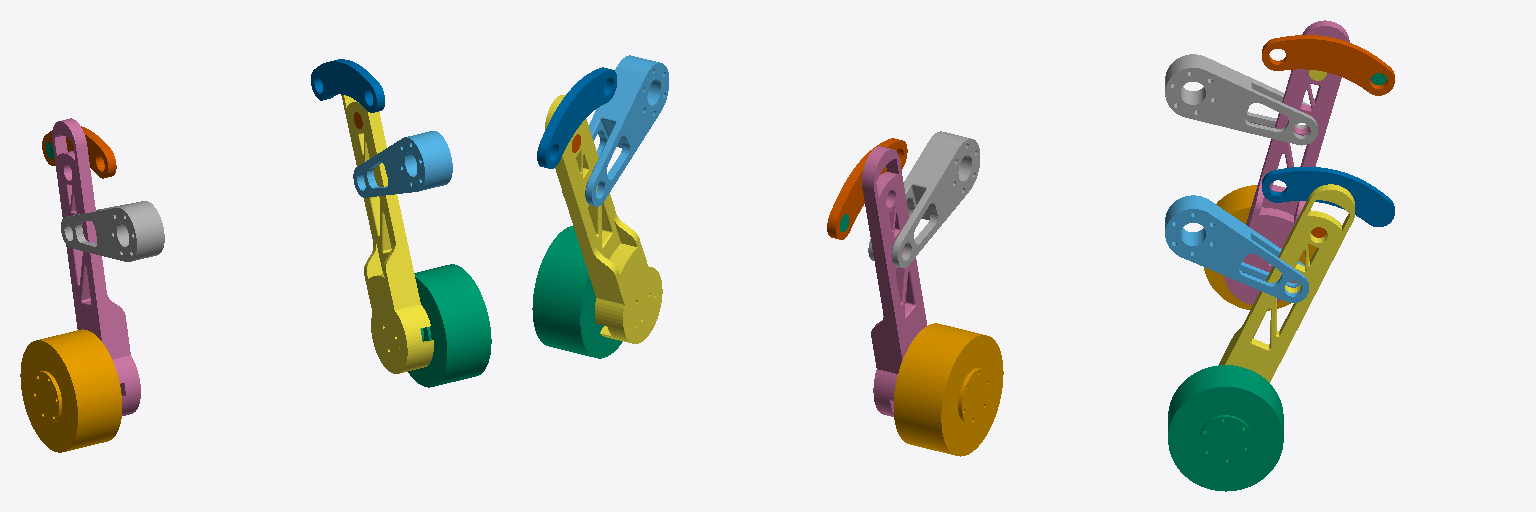
URDF robot description (轮腿v1):
<?xml version='1.0' encoding='utf-8'?>
<robot name="轮腿v1">
    <link name="root_link">
    </link>
    <link name="robot_link1_left">
        <inertial>
            <origin xyz="-0.010016496684495167 0.01671145807459988 -0.010000001677759718" rpy="0.0 -0.0 0.0" />
            <mass value="0.034170053825688045" />
            <inertia ixx="1.5691808340208215e-05" iyy="8.391464562065853e-06" izz="2.1479023160110577e-05" ixy="6.8280199108398595e-06" iyz="1.98908272782787e-11" ixz="5.6384452237242784e-12" />
        </inertial>
        <visual name="robot_link1_left_visual">
            <origin xyz="0.08833567487194983 0.3636699887884921 -0.01700000000000146" rpy="0.17453292519943286 -1.5707963267948943 0" />
            <geometry>
                <mesh filename="meshes/robot_link1_left.stl" scale="0.001 0.001 0.001" />
            </geometry>
        </visual>
        <collision name="robot_link1_left_collision">
            <origin xyz="0.08833567487194983 0.3636699887884921 -0.01700000000000146" rpy="0.17453292519943286 -1.5707963267948943 0" />
            <geometry>
                <mesh filename="meshes/robot_link1_left.stl" scale="0.001 0.001 0.001" />
            </geometry>
        </collision>
    </link>
    <link name="robot_wheel_left">
        <inertial>
            <origin xyz="3.0152683896744747e-06 6.459283394653071e-06 0.02574039366510318" rpy="1.335583525053853e-76 -0.0 7.778769097326427e-62" />
            <mass value="1.0657044593105747" />
            <inertia ixx="0.00043627358117542315" iyy="0.00043627487302622136" izz="0.0006676023336660286" ixy="7.697821685636401e-10" iyz="1.6429919262919128e-07" ixz="7.661397197243954e-08" />
        </inertial>
        <visual name="robot_wheel_left_visual">
            <origin xyz="0.24825175501436833 -0.4724705067400967 0.04200000000000099" rpy="-1.5707963267948966 -1.7608906777981322e-15 -1.74532925199433" />
            <geometry>
                <mesh filename="meshes/robot_wheel_left.stl" scale="0.001 0.001 0.001" />
            </geometry>
        </visual>
        <collision name="robot_wheel_left_collision">
            <origin xyz="0.24825175501436833 -0.4724705067400967 0.04200000000000099" rpy="-1.5707963267948966 -1.7608906777981322e-15 -1.74532925199433" />
            <geometry>
                <mesh filename="meshes/robot_wheel_left.stl" scale="0.001 0.001 0.001" />
            </geometry>
        </collision>
    </link>
    <link name="robot_link2_left">
        <inertial>
            <origin xyz="-0.04938937365968343 0.02303063890424319 -0.007876491555606609" rpy="-3.4796460183768004e-79 -0.0 0.0" />
            <mass value="0.06493550656605085" />
            <inertia ixx="3.862113424253112e-05" iyy="0.00014527919458226513" izz="0.00018014507365024524" ixy="6.348318854740645e-05" iyz="3.7809764565897997e-06" ixz="-8.10833017744589e-06" />
        </inertial>
        <visual name="robot_link2_left_visual">
            <origin xyz="0.17058009038274904 -0.3613442097834216 0.0020000000000013163" rpy="1.7453292519943295 1.570796326794894 0" />
            <geometry>
                <mesh filename="meshes/robot_link2_left.stl" scale="0.001 0.001 0.001" />
            </geometry>
        </visual>
        <collision name="robot_link2_left_collision">
            <origin xyz="0.17058009038274904 -0.3613442097834216 0.0020000000000013163" rpy="1.7453292519943295 1.570796326794894 0" />
            <geometry>
                <mesh filename="meshes/robot_link2_left.stl" scale="0.001 0.001 0.001" />
            </geometry>
        </collision>
    </link>
    <link name="robot_link3_left">
        <inertial>
            <origin xyz="-0.0035459729968809485 -0.03271474441396112 0.00300000000000034" rpy="0.0 -0.0 0.0" />
            <mass value="0.009709743586677392" />
            <inertia ixx="4.349768112687911e-06" iyy="7.655585815870281e-07" izz="5.057068232762474e-06" ixy="-1.0347678306215843e-06" iyz="6.247374890622568e-21" ixz="4.877316281108266e-19" />
        </inertial>
        <visual name="robot_link3_left_visual">
            <origin xyz="-0.10688434110702759 -0.25680579739576037 0.006000000000001049" rpy="-8.326672684688855e-17 1.570796326794892 0" />
            <geometry>
                <mesh filename="meshes/robot_link3_left.stl" scale="0.001 0.001 0.001" />
            </geometry>
        </visual>
        <collision name="robot_link3_left_collision">
            <origin xyz="-0.10688434110702759 -0.25680579739576037 0.006000000000001049" rpy="-8.326672684688855e-17 1.570796326794892 0" />
            <geometry>
                <mesh filename="meshes/robot_link3_left.stl" scale="0.001 0.001 0.001" />
            </geometry>
        </collision>
    </link>
    <link name="robot_link3_right">
        <inertial>
            <origin xyz="-0.0035459729968820852 0.03271474441396185 0.0029999999999999007" rpy="0.0 -0.0 0.0" />
            <mass value="0.009709743586677332" />
            <inertia ixx="4.3497681126841974e-06" iyy="7.655585815835586e-07" izz="5.057068232748596e-06" ixy="1.0347678306205001e-06" iyz="-8.147858037048061e-20" ixz="4.340874297373733e-19" />
        </inertial>
        <visual name="robot_link3_right_visual">
            <origin xyz="0.1273365228711529 0.23656734657066672 0.005999999999998807" rpy="3.1415926535897927 1.5707963267948952 0" />
            <geometry>
                <mesh filename="meshes/robot_link3_right.stl" scale="0.001 0.001 0.001" />
            </geometry>
        </visual>
        <collision name="robot_link3_right_collision">
            <origin xyz="0.1273365228711529 0.23656734657066672 0.005999999999998807" rpy="3.1415926535897927 1.5707963267948952 0" />
            <geometry>
                <mesh filename="meshes/robot_link3_right.stl" scale="0.001 0.001 0.001" />
            </geometry>
        </collision>
    </link>
    <link name="robot_link2_right">
        <inertial>
            <origin xyz="-0.05263826298415069 -0.014104385247137455 -0.007876491555606826" rpy="0.0 -0.0 0.0" />
            <mass value="0.06493550656605086" />
            <inertia ixx="2.012473904235753e-05" iyy="0.00016377558978245" izz="0.00018014507365216037" ixy="-4.1415081279836535e-05" iyz="-2.3155381691996075e-06" ixz="-8.641706094238872e-06" />
        </inertial>
        <visual name="robot_link2_right_visual">
            <origin xyz="0.19153895741042276 0.32711011009347496 0.0019999999999991405" rpy="1.5707963267948966 1.5707963267948957 0" />
            <geometry>
                <mesh filename="meshes/robot_link2_right.stl" scale="0.001 0.001 0.001" />
            </geometry>
        </visual>
        <collision name="robot_link2_right_collision">
            <origin xyz="0.19153895741042276 0.32711011009347496 0.0019999999999991405" rpy="1.5707963267948966 1.5707963267948957 0" />
            <geometry>
                <mesh filename="meshes/robot_link2_right.stl" scale="0.001 0.001 0.001" />
            </geometry>
        </collision>
    </link>
    <link name="robot_link1_right">
        <inertial>
            <origin xyz="-0.006962418040937167 -0.018196920644277352 -0.010000001677759442" rpy="0.0 -0.0 0.0" />
            <mass value="0.034170053825688" />
            <inertia ixx="1.7807004699348008e-05" iyy="6.276188456673382e-06" izz="2.1478943414005025e-05" ixy="-5.167909996290493e-06" iyz="-1.8698940130391368e-11" ixz="6.7664398385079534e-12" />
        </inertial>
        <visual name="robot_link1_right_visual">
            <origin xyz="0.11106539677151417 -0.34436502796970425 -0.016999999999999033" rpy="-3.141592653589793 -1.5707963267948941 0" />
            <geometry>
                <mesh filename="meshes/robot_link1_right.stl" scale="0.001 0.001 0.001" />
            </geometry>
        </visual>
        <collision name="robot_link1_right_collision">
            <origin xyz="0.11106539677151417 -0.34436502796970425 -0.016999999999999033" rpy="-3.141592653589793 -1.5707963267948941 0" />
            <geometry>
                <mesh filename="meshes/robot_link1_right.stl" scale="0.001 0.001 0.001" />
            </geometry>
        </collision>
    </link>
    <link name="robot_wheel_right">
        <inertial>
            <origin xyz="1.8449294947231465e-06 6.889321517498104e-06 -0.025740393665102987" rpy="-2.820349281607077e-63 -0.0 0.0" />
            <mass value="1.0657044593105751" />
            <inertia ixx="0.0004362733568501405" iyy="0.00043627509735166825" izz="0.0006676023337179868" ixy="5.024393678887406e-10" iyz="-1.751069943073391e-07" ixz="-4.6919777119125414e-08" />
        </inertial>
        <visual name="robot_wheel_right_visual">
            <origin xyz="0.2873274874104179 -0.42306060953666047 -0.04199999999999896" rpy="1.5707963267948954 -3.1801498600866617e-15 -1.5707963267948961" />
            <geometry>
                <mesh filename="meshes/robot_wheel_right.stl" scale="0.001 0.001 0.001" />
            </geometry>
        </visual>
        <collision name="robot_wheel_right_collision">
            <origin xyz="0.2873274874104179 -0.42306060953666047 -0.04199999999999896" rpy="1.5707963267948954 -3.1801498600866617e-15 -1.5707963267948961" />
            <geometry>
                <mesh filename="meshes/robot_wheel_right.stl" scale="0.001 0.001 0.001" />
            </geometry>
        </collision>
    </link>
    <link name="base_link">
        <inertial>
            <origin xyz="0.0005337578146895701 0.34107081948840645 -0.1376487452325793" rpy="0.0 0.0 0.0" />
            <mass value="1.0151346729857265" />
            <inertia ixx="0.0022603249047739027" iyy="0.0033249253420046896" izz="0.0037291749507083636" ixy="-2.4276206741919606e-06" iyz="0.00039958298524939227" ixz="-6.288547517541241e-05" />
        </inertial>
        <visual name="base_link_visual">
            <origin xyz="0.0 0.0 0.0" rpy="0.0 0.0 0.0" />
            <geometry>
                <mesh filename="meshes/base_link.stl" scale="0.001 0.001 0.001" />
            </geometry>
        </visual>
        <collision name="base_link_collision">
            <origin xyz="0.0 0.0 0.0" rpy="0.0 0.0 0.0" />
            <geometry>
                <mesh filename="meshes/base_link.stl" scale="0.001 0.001 0.001" />
            </geometry>
        </collision>
    </link>
    <link name="robot_link3_right_marker">
        <inertial>
            <origin xyz="-1.4506554180115927e-10 -1.4083516575169597e-09 5.0000000000203216e-05" rpy="0.0 -0.0 0.0" />
            <mass value="1.0257504217493372e-05" />
            <inertia ixx="7.899772612878714e-11" iyy="7.899774643100222e-11" izz="1.57978376731714e-10" ixy="8.470329472543028e-22" iyz="-1.5859820645016388e-22" ixz="8.470391667077005e-22" />
        </inertial>
        <visual name="robot_link3_right_marker_visual">
            <origin xyz="-0.04502772556666173 -0.9229188886560508 0.11578845538820222" rpy="-1.5707963267948968 1.5707963267948923 0" />
            <geometry>
                <mesh filename="meshes/robot_link3_right_marker.stl" scale="0.001 0.001 0.001" />
            </geometry>
        </visual>
        <collision name="robot_link3_right_marker_collision">
            <origin xyz="-0.04502772556666173 -0.9229188886560508 0.11578845538820222" rpy="-1.5707963267948968 1.5707963267948923 0" />
            <geometry>
                <mesh filename="meshes/robot_link3_right_marker.stl" scale="0.001 0.001 0.001" />
            </geometry>
        </collision>
    </link>
    <link name="robot_link2_right_marker">
        <inertial>
            <origin xyz="4.692137451911549e-09 4.0059433459305185e-09 -4.999999999995453e-05" rpy="-2.820349281607077e-63 -0.0 0.0" />
            <mass value="1.0257504217493372e-05" />
            <inertia ixx="7.899774643566087e-11" iyy="7.899772604461324e-11" izz="1.5797837664701065e-10" ixy="6.352747104407252e-22" iyz="-5.876291071576708e-21" ixz="2.11758236813575e-21" />
        </inertial>
        <visual name="robot_link2_right_marker_visual">
            <origin xyz="-0.9147216714642974 0.07249546230269469 0.1165884553881987" rpy="-1.0693388481990772e-16 1.5707963267948961 0" />
            <geometry>
                <mesh filename="meshes/robot_link2_right_marker.stl" scale="0.001 0.001 0.001" />
            </geometry>
        </visual>
        <collision name="robot_link2_right_marker_collision">
            <origin xyz="-0.9147216714642974 0.07249546230269469 0.1165884553881987" rpy="-1.0693388481990772e-16 1.5707963267948961 0" />
            <geometry>
                <mesh filename="meshes/robot_link2_right_marker.stl" scale="0.001 0.001 0.001" />
            </geometry>
        </collision>
    </link>
    <link name="robot_link3_left_marker">
        <inertial>
            <origin xyz="-1.456587028769718e-10 -1.4089642164094584e-09 -4.999999999947935e-05" rpy="7.537443438223776e-93 -0.0 0.0" />
            <mass value="1.0257504217493369e-05" />
            <inertia ixx="7.899774643094928e-11" iyy="7.899772564820182e-11" izz="1.5797837624382301e-10" ixy="-1.2705494208814505e-21" iyz="-4.235164736271502e-22" ixz="3.1763735522036263e-22" />
        </inertial>
        <visual name="robot_link3_left_marker_visual">
            <origin xyz="-0.9210734206769405 0.11000152067407794 -0.08441154461180128" rpy="-5.911507883585289e-17 1.5707963267948966 0" />
            <geometry>
                <mesh filename="meshes/robot_link3_left_marker.stl" scale="0.001 0.001 0.001" />
            </geometry>
        </visual>
        <collision name="robot_link3_left_marker_collision">
            <origin xyz="-0.9210734206769405 0.11000152067407794 -0.08441154461180128" rpy="-5.911507883585289e-17 1.5707963267948966 0" />
            <geometry>
                <mesh filename="meshes/robot_link3_left_marker.stl" scale="0.001 0.001 0.001" />
            </geometry>
        </collision>
    </link>
    <link name="robot_link2_left_marker">
        <inertial>
            <origin xyz="4.230389549775282e-10 1.3485660943501898e-09 5.000000000024763e-05" rpy="0.0 -0.0 0.0" />
            <mass value="1.0257504217493367e-05" />
            <inertia ixx="7.899774581835919e-11" iyy="7.899772657993809e-11" izz="1.579783765623074e-10" ixy="-3.501210687475652e-18" iyz="-3.8381180422460494e-22" ixz="-3.176373552203627e-22" />
        </inertial>
        <visual name="robot_link2_left_marker_visual">
            <origin xyz="-0.8746739385788675 0.23172090799094405 -0.08521154461180118" rpy="0.17453292519943323 1.5707963267948963 0" />
            <geometry>
                <mesh filename="meshes/robot_link2_left_marker.stl" scale="0.001 0.001 0.001" />
            </geometry>
        </visual>
        <collision name="robot_link2_left_marker_collision">
            <origin xyz="-0.8746739385788675 0.23172090799094405 -0.08521154461180118" rpy="0.17453292519943323 1.5707963267948963 0" />
            <geometry>
                <mesh filename="meshes/robot_link2_left_marker.stl" scale="0.001 0.001 0.001" />
            </geometry>
        </collision>
    </link>
    <joint name="root_link_to_base_link" type="fixed">
        <origin xyz="0 0 0" rpy="3.141592653589793 0 0" />
        <parent link="root_link" />
        <child link="base_link" />
    </joint>
    <joint name="robot_link2_left_r3" type="continuous">
        <origin xyz="-0.08987636000000009 0.041910029999999994 -0.007999999999999981" rpy="-4.805033435734919e-16 4.644050467570086e-31 2.7755575615628914e-17" />
        <parent link="robot_link2_left" />
        <child link="robot_wheel_left" />
        <axis xyz="-4.784009981857894e-31 -9.847606366883088e-16 1.0" />
    </joint>
    <joint name="robot_link1_left_r8" type="continuous">
        <origin xyz="-0.03727273999999994 0.06218514 -0.01499999999999999" rpy="3.1415926535897927 -3.7526558797428115e-33 2.7755575615628914e-17" />
        <parent link="robot_link1_left" />
        <child link="robot_link2_left" />
        <axis xyz="0.0 -5.042572931148168e-16 1.0" />
    </joint>
    <joint name="robot_link1_right_r6" type="continuous">
        <origin xyz="-0.02590814999999992 -0.06771276 -0.015" rpy="3.141592653589793 -0.0 0.0" />
        <parent link="robot_link1_right" />
        <child link="robot_link2_right" />
        <axis xyz="0.0 1.8967936579340166e-16 -1.0" />
    </joint>
    <joint name="robot_link2_right_r7" type="continuous">
        <origin xyz="-0.0957885300000001 -0.025666460000000006 -0.008000000000000044" rpy="-3.141592653589793 -4.576278348393557e-31 -8.680255748173643e-47" />
        <parent link="robot_link2_right" />
        <child link="robot_wheel_right" />
        <axis xyz="4.576278348393556e-31 9.860761315262648e-32 -0.9999999999999999" />
    </joint>
    <joint name="robot_base_link_r1" type="continuous">
        <origin xyz="0.09399999999999942 0.33551836027341664 -0.1427954867955333" rpy="-3.141592653589792 1.570796326794896 0" />
        <parent link="base_link" />
        <child link="robot_link1_left" />
        <axis xyz="0.0 1.3520367697327542e-16 -1.0" />
    </joint>
    <joint name="robot_base_link_r2" type="continuous">
        <origin xyz="0.09399999999999933 0.2828136602734167 -0.16786012679553325" rpy="1.6087445293336559e-15 1.570796326794896 0" />
        <parent link="base_link" />
        <child link="robot_link3_left" />
        <axis xyz="0.0 1.249091011197249e-16 -1.0" />
    </joint>
    <joint name="robot_base_link_r4" type="continuous">
        <origin xyz="-0.09400000000000067 0.28281366027341703 -0.16786012679553325" rpy="-3.141592653589792 1.570796326794896 0" />
        <parent link="base_link" />
        <child link="robot_link3_right" />
        <axis xyz="0.0 5.732771573304856e-17 -1.0" />
    </joint>
    <joint name="robot_base_link_r9" type="continuous">
        <origin xyz="-0.09400000000000057 0.3355183602734169 -0.1427954867955333" rpy="1.6118554336100973e-15 1.570796326794896 0" />
        <parent link="base_link" />
        <child link="robot_link1_right" />
        <axis xyz="0.0 1.217981968432834e-16 -1.0" />
    </joint>
    <joint name="robot_link3_left_fix1" type="fixed">
        <origin xyz="-0.01682323999999994 -0.06278517999999998 0.005999999999999992" rpy="1.2490910111972567e-16 -1.539623540307017e-48 1.232595164407831e-32" />
        <parent link="robot_link3_left" />
        <child link="robot_link3_left_marker" />
    </joint>
    <joint name="robot_link2_left_fix2" type="fixed">
        <origin xyz="0.03438306000000012 -0.016033089999999993 -0.008000000000000012" rpy="5.042572931148169e-16 4.644050467570086e-31 2.7755575615628914e-17" />
        <parent link="robot_link2_left" />
        <child link="robot_link2_left_marker" />
    </joint>
    <joint name="robot_link2_right_fix3" type="fixed">
        <origin xyz="0.036644819999999925 0.009818949999999998 -0.008000000000000007" rpy="-3.141592653589793 -4.576278348393557e-31 -8.680255748173643e-47" />
        <parent link="robot_link2_right" />
        <child link="robot_link2_right_marker" />
    </joint>
    <joint name="robot_link3_right_刚性-5" type="fixed">
        <origin xyz="-0.01682323999999994 0.06278518 0.006000000000000014" rpy="-3.1415926535897905 -0.0 0.0" />
        <parent link="robot_link3_right" />
        <child link="robot_link3_right_marker" />
    </joint>
</robot>

--- Facts derived from the render (not from the file) ---
3 views of the same robot in one strip: view 1: azimuth 30°, elevation 25°; view 2: azimuth 150°, elevation 25°; view 3: azimuth 270°, elevation 25° (orthographic).
Model 轮腿v1 with 14 links and 13 joints (8 continuous, 5 fixed), rooted at root_link, posed all joints at 0.
Visible links, largest first — view 1: robot_link2_left, robot_wheel_right, robot_link2_right, robot_wheel_left, robot_link1_right, robot_link1_left, robot_link3_left, robot_link3_right; view 2: robot_wheel_right, robot_link2_left, robot_link2_right, robot_wheel_left, robot_link1_left, robot_link1_right, robot_link3_left, robot_link3_right; view 3: robot_wheel_left, robot_link2_left, robot_link1_right, robot_link1_left, robot_link2_right, robot_link3_right, robot_link3_left, robot_wheel_right.
Boxes of the visible links, x1,y1,x2,y2 form: robot_link2_left: (341,95,433,373); robot_wheel_right: (20,329,121,452); robot_link2_right: (52,118,140,415); robot_wheel_left: (408,264,491,387); robot_link1_right: (61,201,164,261); robot_link1_left: (353,131,452,197); robot_link3_left: (311,59,384,112); robot_link3_right: (42,126,116,178); robot_wheel_right: (894,323,1003,456); robot_link2_left: (545,95,662,343); robot_link2_right: (862,146,926,416); robot_wheel_left: (532,226,622,358); robot_link1_left: (562,55,668,206); robot_link1_right: (868,131,979,267); robot_link3_left: (537,67,616,168); robot_link3_right: (827,138,907,239); robot_wheel_left: (1168,365,1283,491); robot_link2_left: (1219,184,1354,382); robot_link1_right: (1165,54,1317,145); robot_link1_left: (1165,195,1308,302); robot_link2_right: (1224,20,1349,304); robot_link3_right: (1262,35,1394,95); robot_link3_left: (1262,167,1394,226); robot_wheel_right: (1204,185,1316,310).
Bounding box of the posed robot: 0.291 × 0.143 × 0.2062 m (x, y, z).
Meshes: 13 distinct files referenced, 12 mesh visuals loaded (12 binary STL); not drawn: 1 (reference not matched to a file when rendering).
